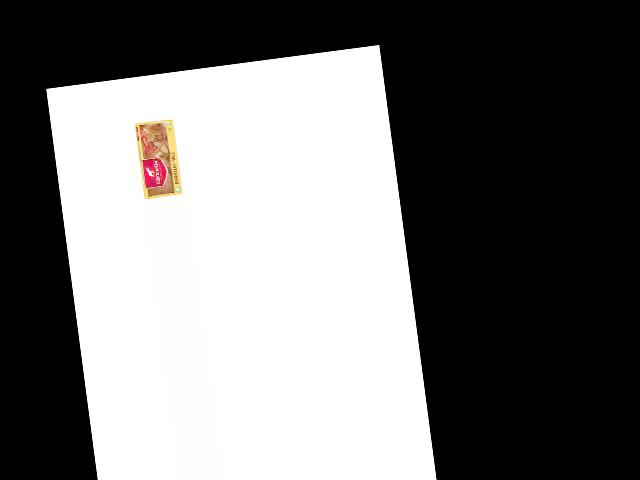chocolate: (132, 116, 189, 199)
